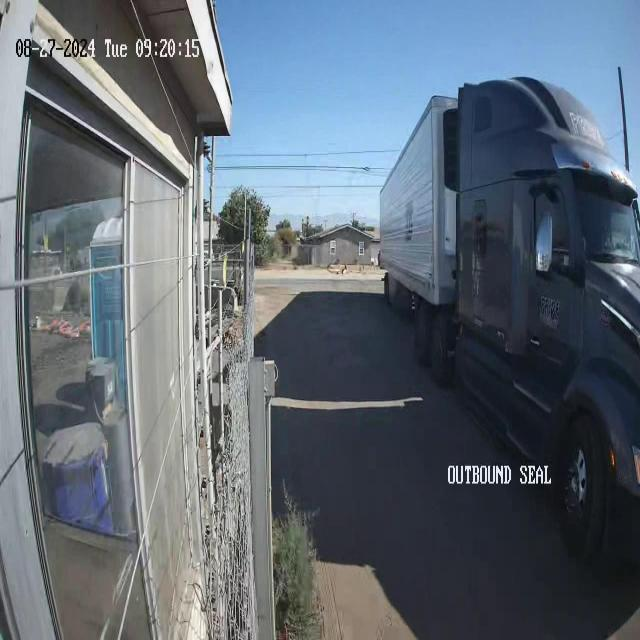TRUCK_IN: (378, 68, 639, 564)
